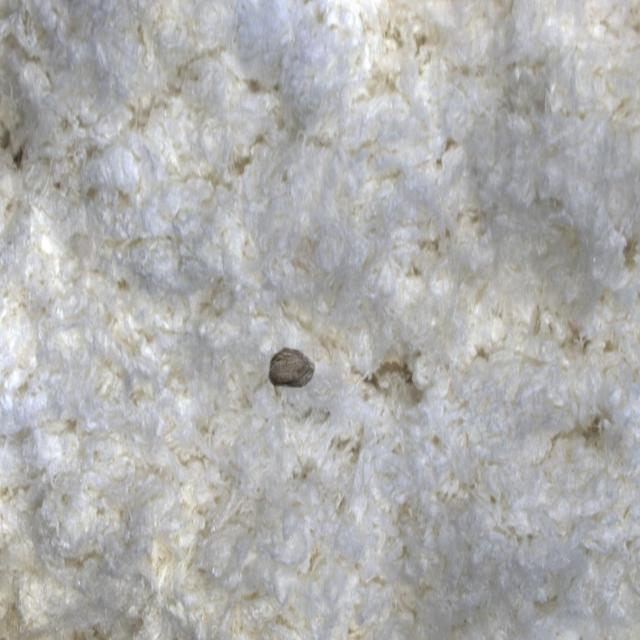dust: (245, 281, 351, 432)
